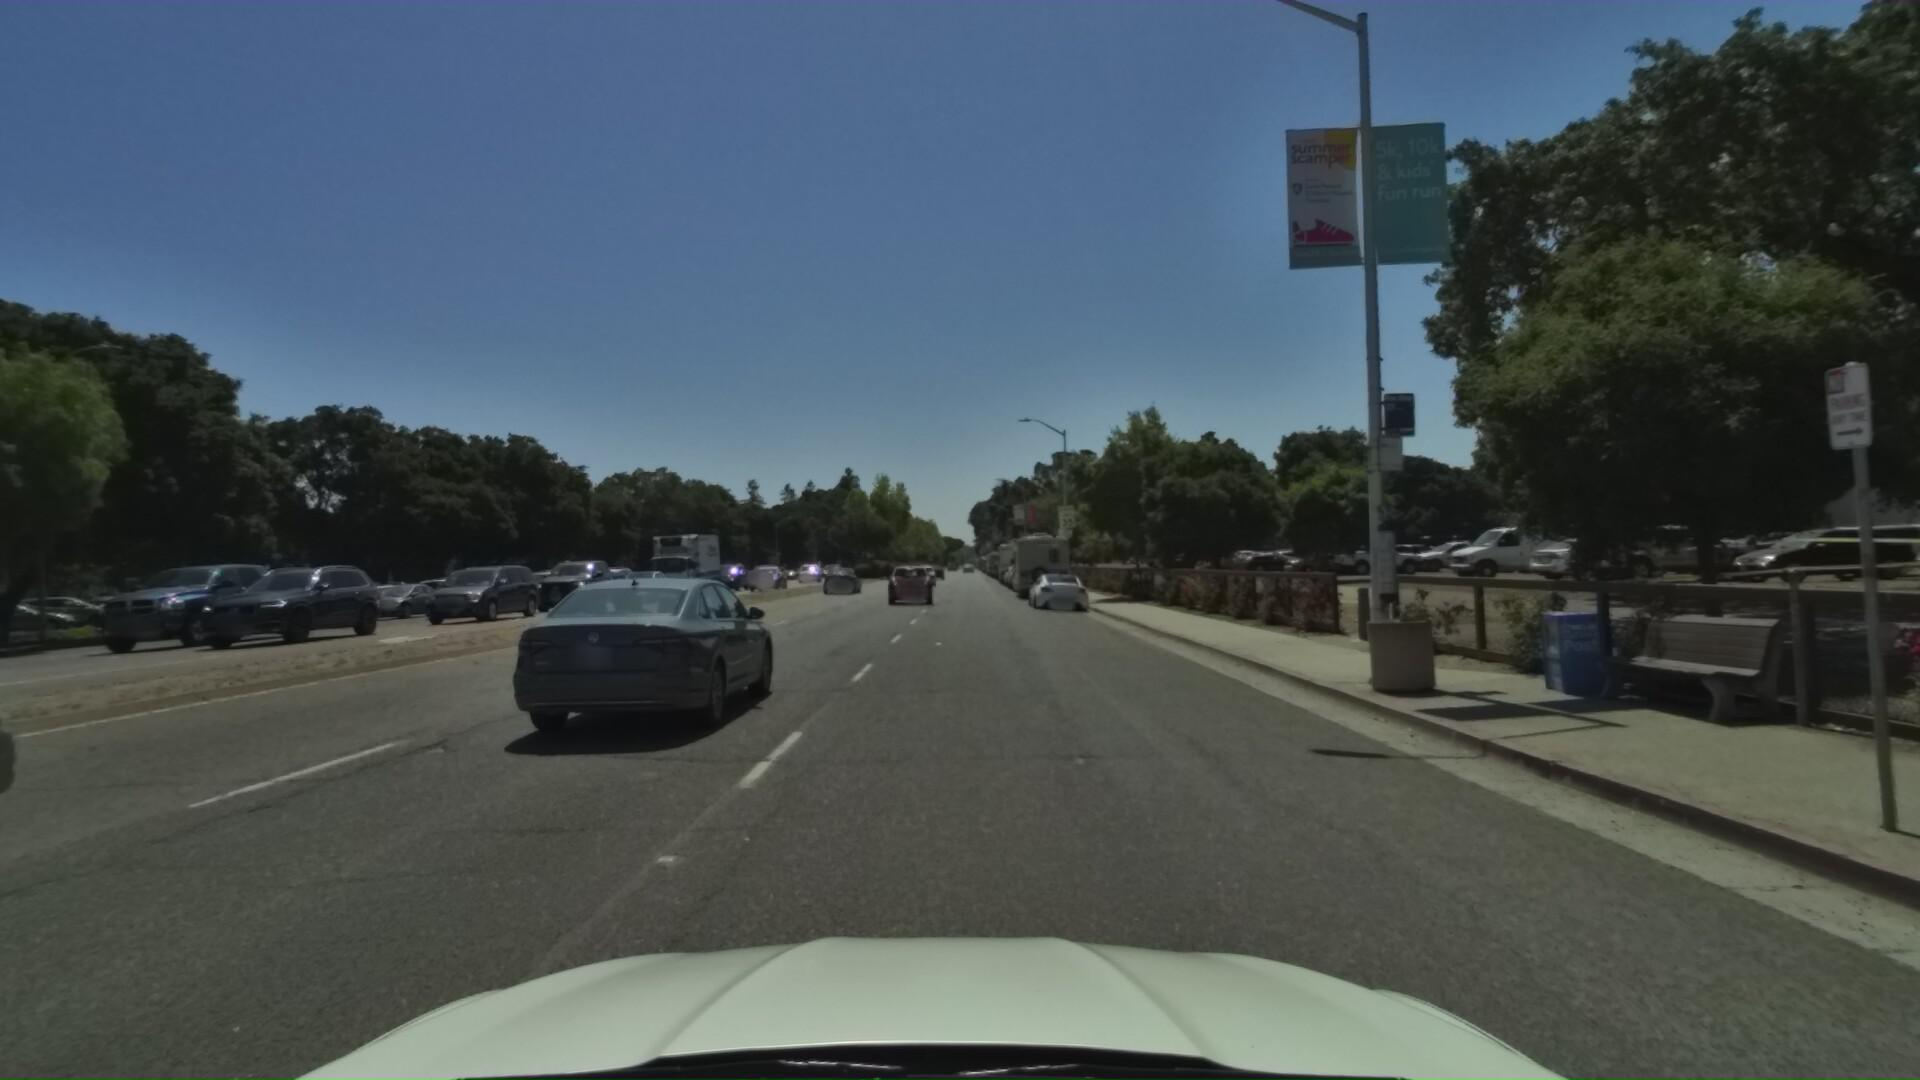car: (493, 558, 795, 757), (0, 576, 53, 1080), (44, 553, 302, 653), (157, 556, 378, 649), (405, 558, 541, 622), (522, 554, 629, 611), (324, 571, 419, 620), (348, 576, 451, 616), (1023, 558, 1092, 609), (884, 556, 934, 605), (576, 556, 645, 592), (607, 564, 673, 599), (700, 555, 752, 585), (742, 556, 789, 584), (822, 564, 862, 595), (1004, 549, 1042, 580), (910, 556, 942, 583)
other_vehicle: (1010, 522, 1073, 589), (996, 524, 1036, 576)
truck: (636, 520, 727, 589)
